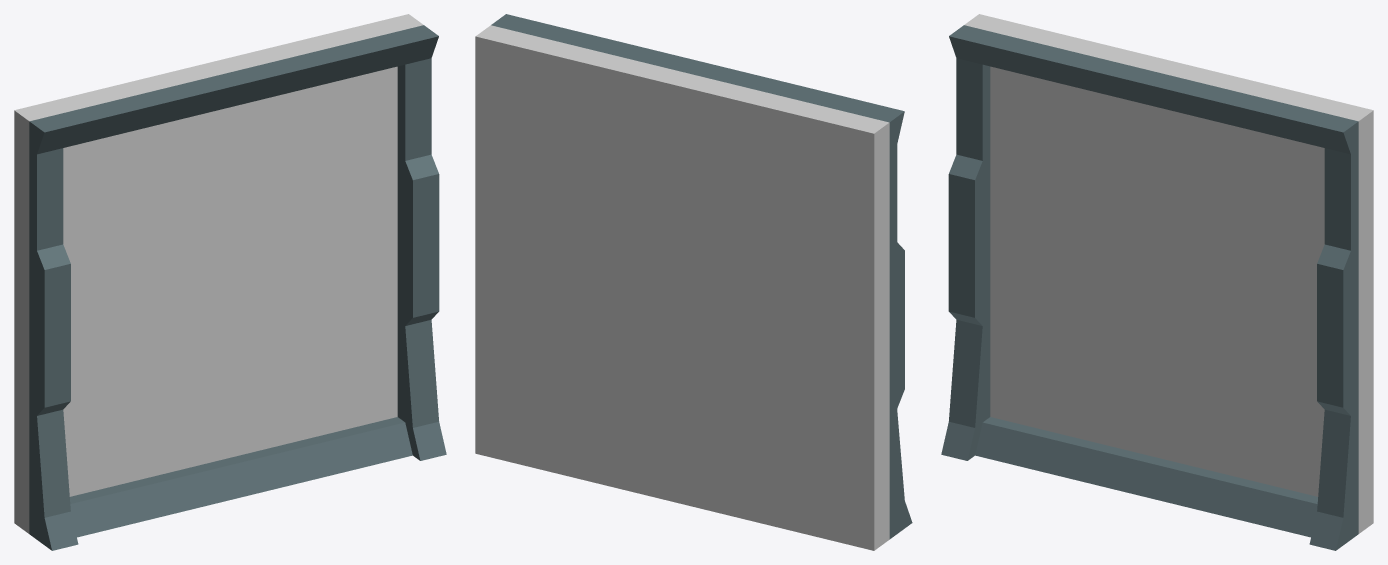
Rendered from scifi_wall_1sided.fbx.
3 views of the same model, side by side, from view 1: azimuth 30°, elevation 25°; view 2: azimuth 150°, elevation 25°; view 3: azimuth 330°, elevation 25° (orthographic).
Visible parts, largest first — view 1: Cube.046; view 2: Cube.046; view 3: Cube.046.
Boxes of the visible parts, left/top/right/bottom form: Cube.046: left=14, top=14, right=446, bottom=550; Cube.046: left=475, top=14, right=912, bottom=550; Cube.046: left=941, top=14, right=1373, bottom=550.
Bounding box in the file's own units: 3 × 3 × 0.5.
